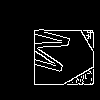M: (25, 25, 80, 78)
